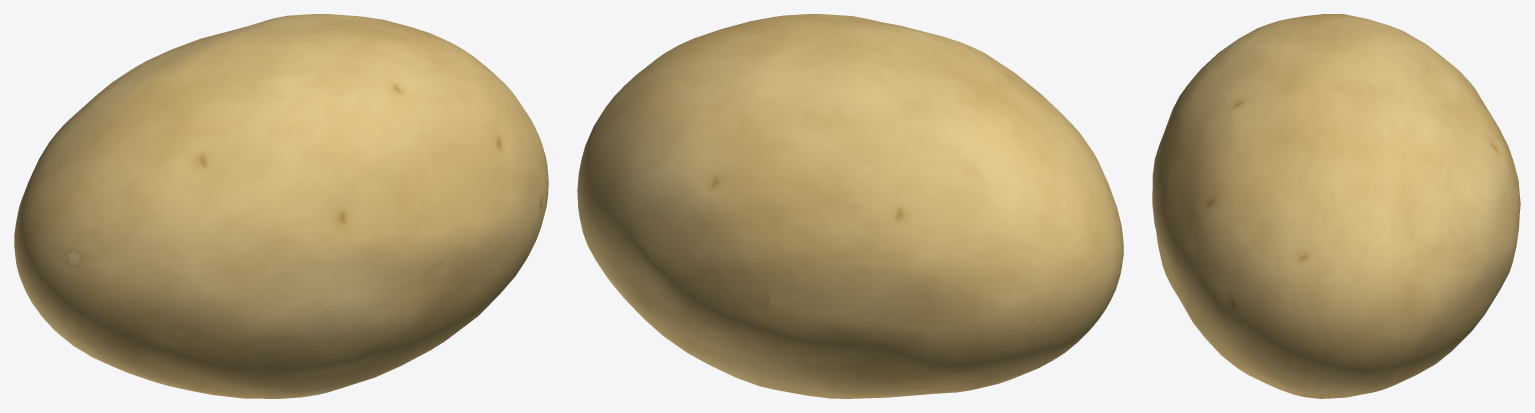
File: aeroponic_potato_lod_distant.glb
The picture shows the model from 3 angles, left to right: view 1: azimuth 30°, elevation 25°; view 2: azimuth 150°, elevation 25°; view 3: azimuth 270°, elevation 25°; orthographic projection. The views are drawn at different scales.
Parts seen in each view (by area): view 1: Aeroponic_Minituber_LOD_Distant; view 2: Aeroponic_Minituber_LOD_Distant; view 3: Aeroponic_Minituber_LOD_Distant.
Boxes of the visible parts, bbox=[...] form: Aeroponic_Minituber_LOD_Distant: bbox=[14, 14, 548, 398]; Aeroponic_Minituber_LOD_Distant: bbox=[577, 14, 1123, 398]; Aeroponic_Minituber_LOD_Distant: bbox=[1152, 14, 1520, 398].
Size of the model in its own units: 0.0438 by 0.0283 by 0.0305.
1 material, 1 textured.
